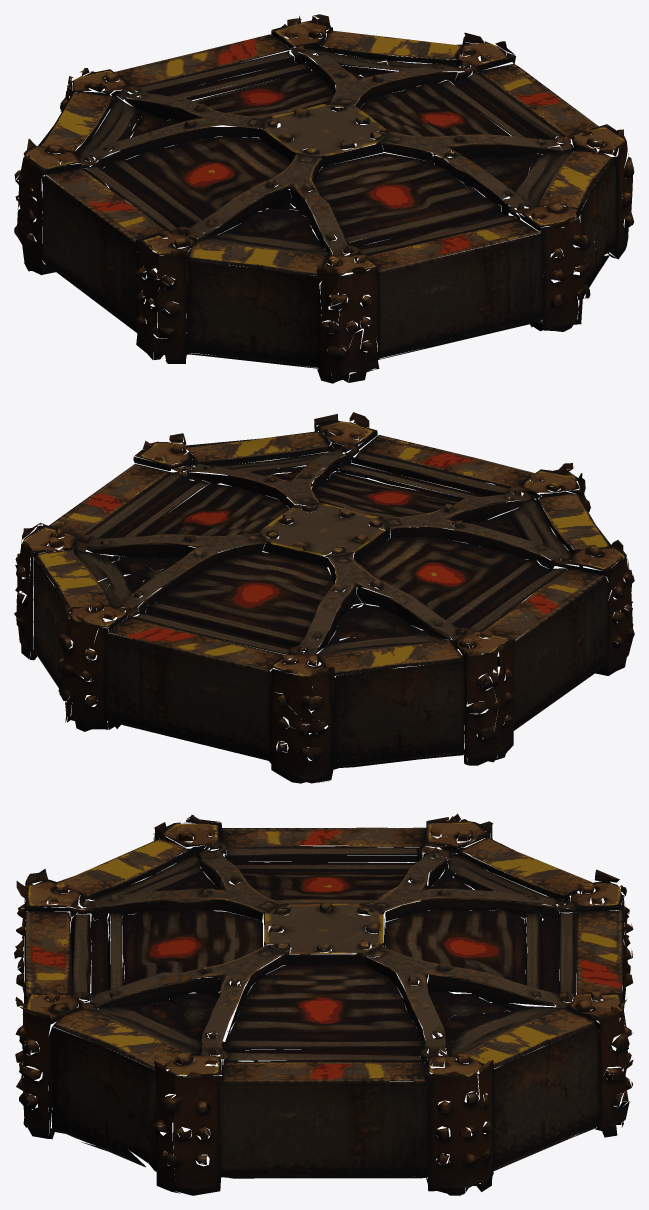
File: tr_flue.glb
3 views of the same model, one above another, from view 1: azimuth 30°, elevation 25°; view 2: azimuth 150°, elevation 25°; view 3: azimuth 270°, elevation 25° (orthographic). The views are drawn at different scales.
Parts seen in each view (by area): view 1: tr_flue; view 2: tr_flue; view 3: tr_flue.
Part boxes in pixels (bbox=[...]): tr_flue: bbox=[14, 14, 634, 383]; tr_flue: bbox=[14, 412, 634, 783]; tr_flue: bbox=[14, 813, 633, 1195].
Size of the model in its own units: 1.5 by 0.4377 by 1.51.
Materials: 1 (1 with a texture image).
